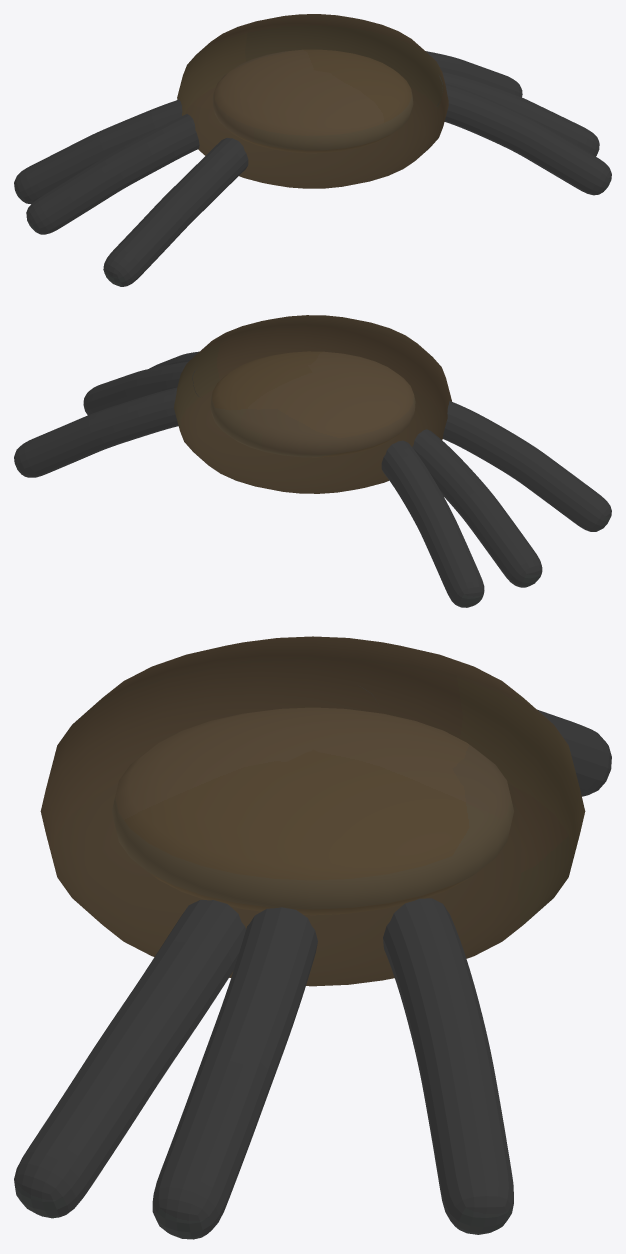
Rendered from spiderfull.glb.
3 renders of one model, top to bottom at view 1: azimuth 30°, elevation 25°; view 2: azimuth 150°, elevation 25°; view 3: azimuth 270°, elevation 25°, orthographic. The views are drawn at different scales.
Parts seen in each view (by area): view 1: Cylinder, Vert (×6); view 2: Cylinder, Vert (×5); view 3: Cylinder, Vert (×4).
Boxes of the visible parts, x1,y1,x2,y2 form: Cylinder: (177,14,448,188); Vert (×6): (14,51,611,286); Cylinder: (174,315,451,493); Vert (×5): (14,361,611,607); Cylinder: (40,636,585,986); Vert (×4): (14,709,611,1239).
Bounding box in the file's own units: 0.5604 × 0.169 × 0.2866.
Materials: 5 (5 with a texture image).
